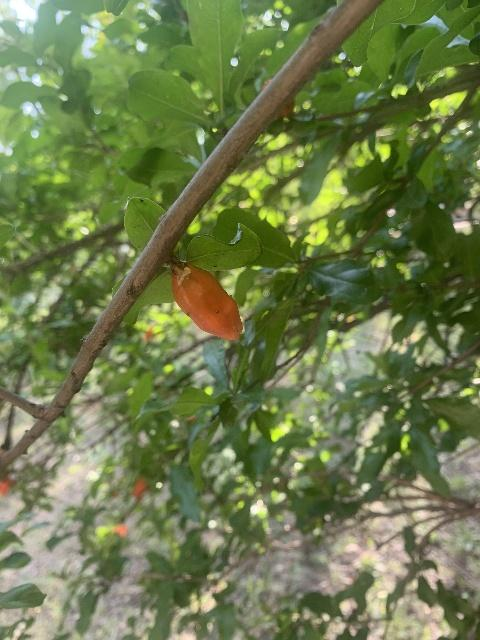bud: (171, 263, 243, 341)
